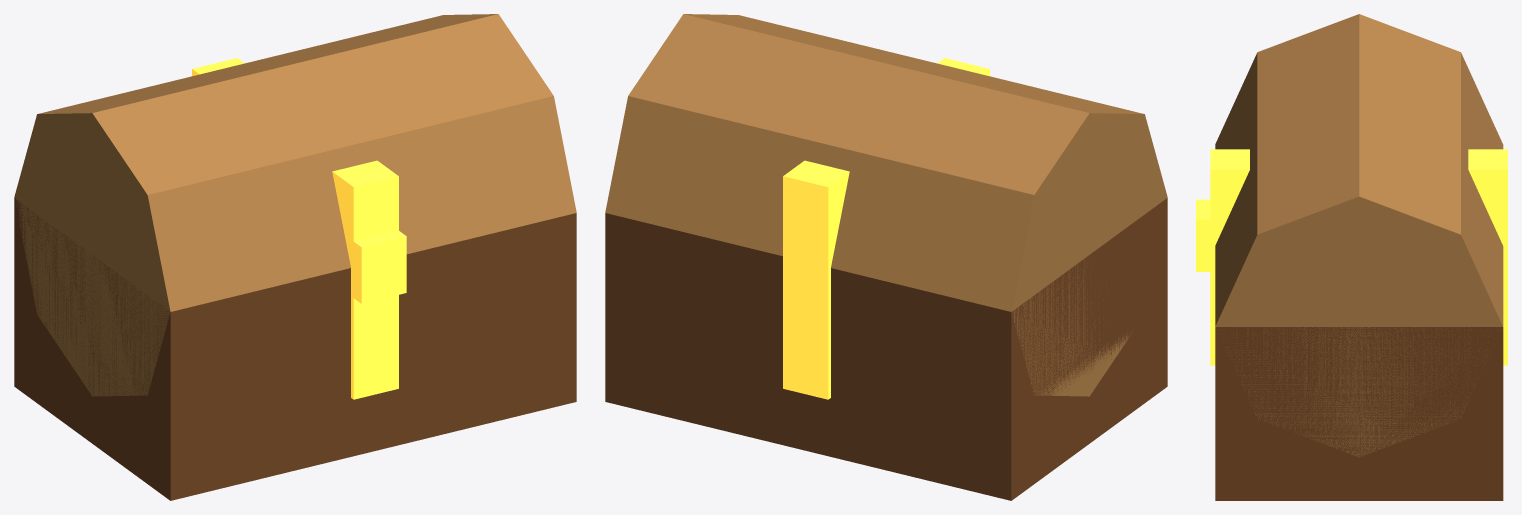
File: sky_treasure_chest.glb
3 renders of one model, left to right at view 1: azimuth 30°, elevation 25°; view 2: azimuth 150°, elevation 25°; view 3: azimuth 270°, elevation 25°, orthographic. The views are drawn at different scales.
Visible parts, largest first — view 1: treasure_chest; view 2: treasure_chest; view 3: treasure_chest.
Boxes of the visible parts, x1,y1,x2,y2 form: treasure_chest: [14, 14, 576, 500]; treasure_chest: [605, 14, 1167, 500]; treasure_chest: [1196, 14, 1507, 500].
Size of the model in its own units: 0.9 by 0.7 by 0.65.
